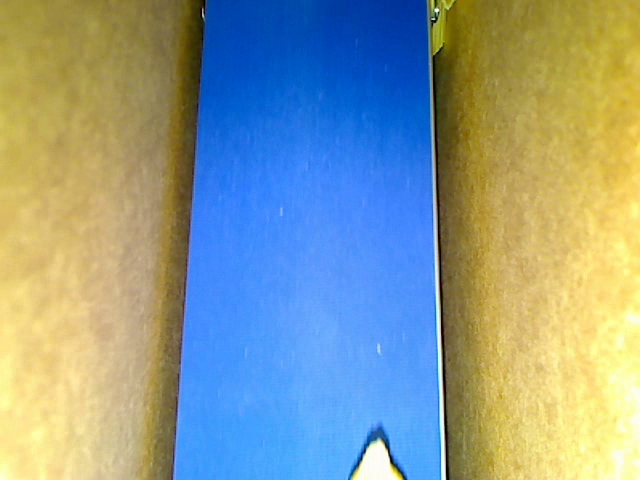penne: (427, 1, 444, 54)
shell: (342, 437, 405, 479)
